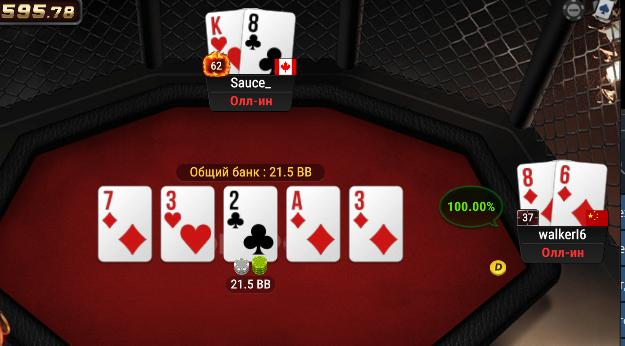2c: (225, 186, 277, 262)
3d: (350, 187, 402, 261)
3h: (161, 187, 214, 260)
6d: (555, 159, 607, 226)
7d: (100, 188, 150, 261)
8c: (243, 9, 295, 75)
8d: (518, 160, 554, 225)
Ad: (287, 187, 340, 262)
Kh: (204, 10, 243, 75)
